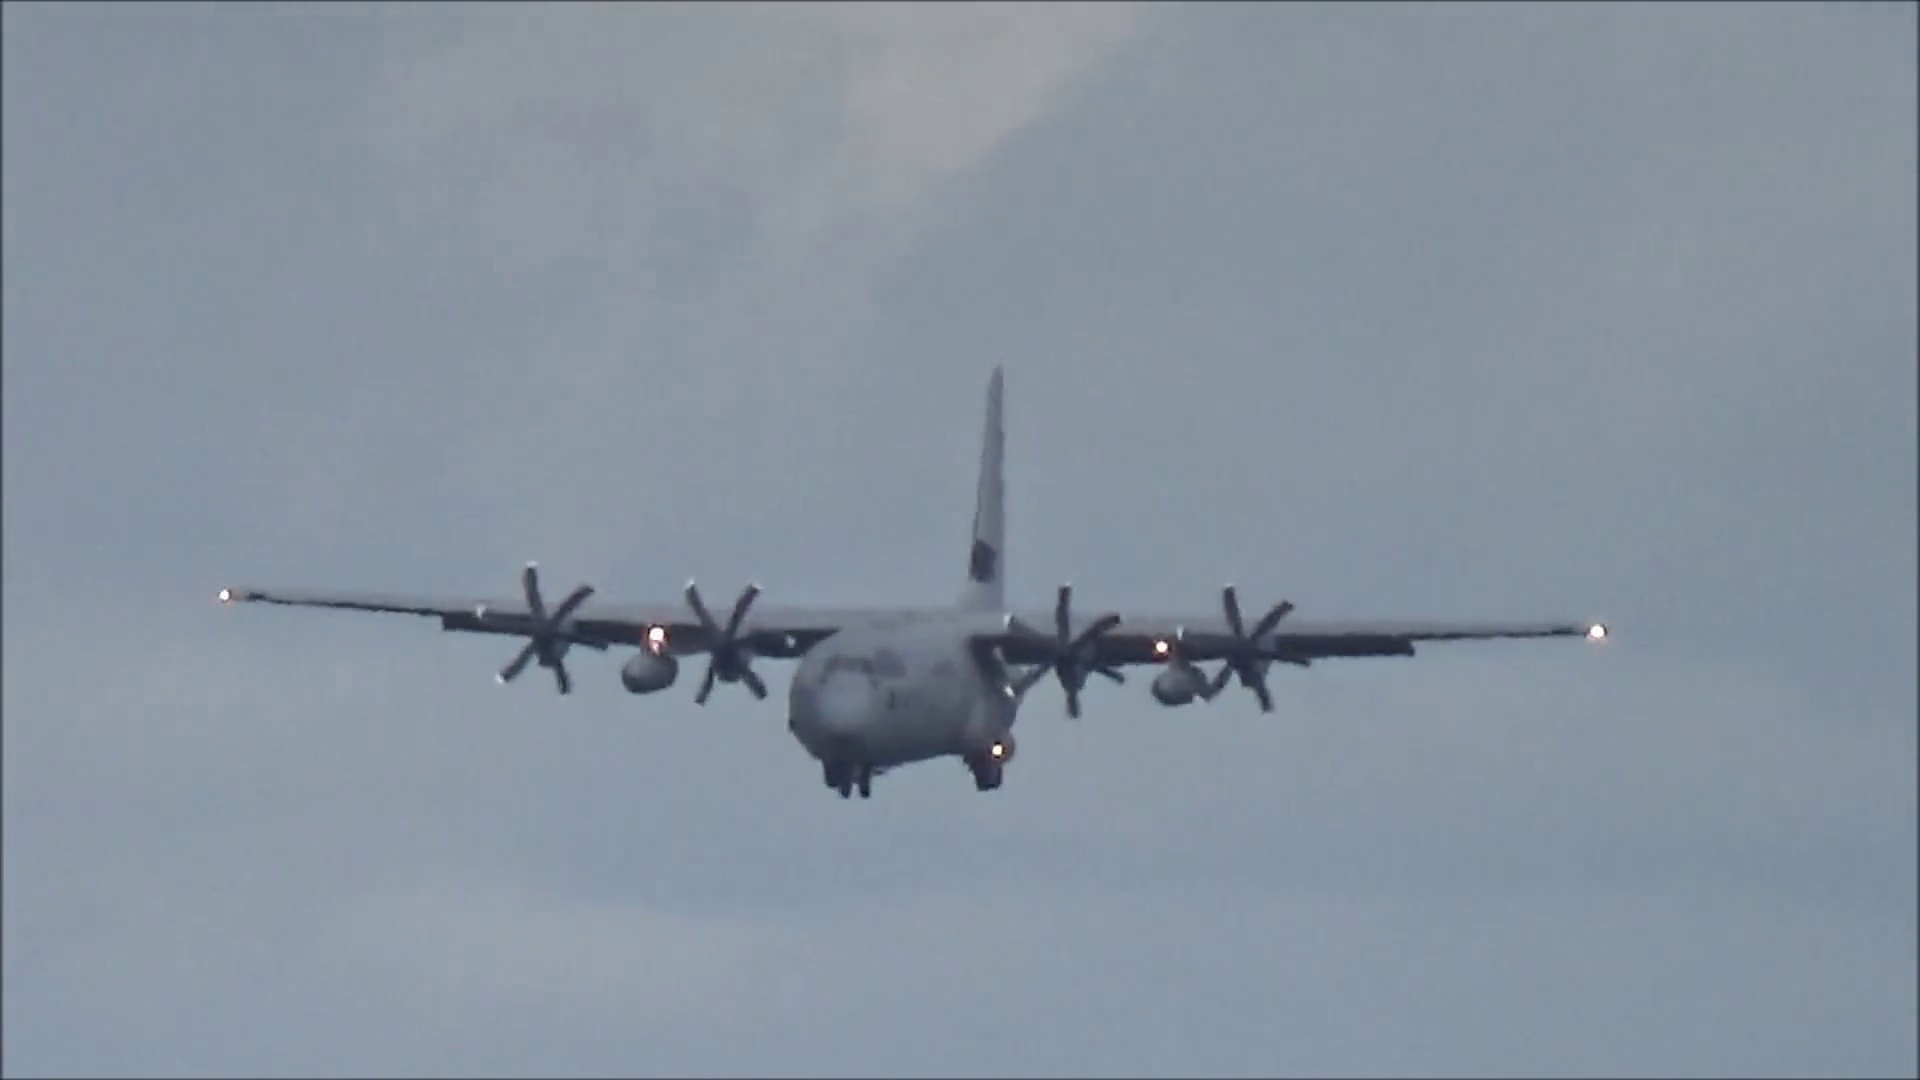Airplane: (224, 371, 1626, 795)
